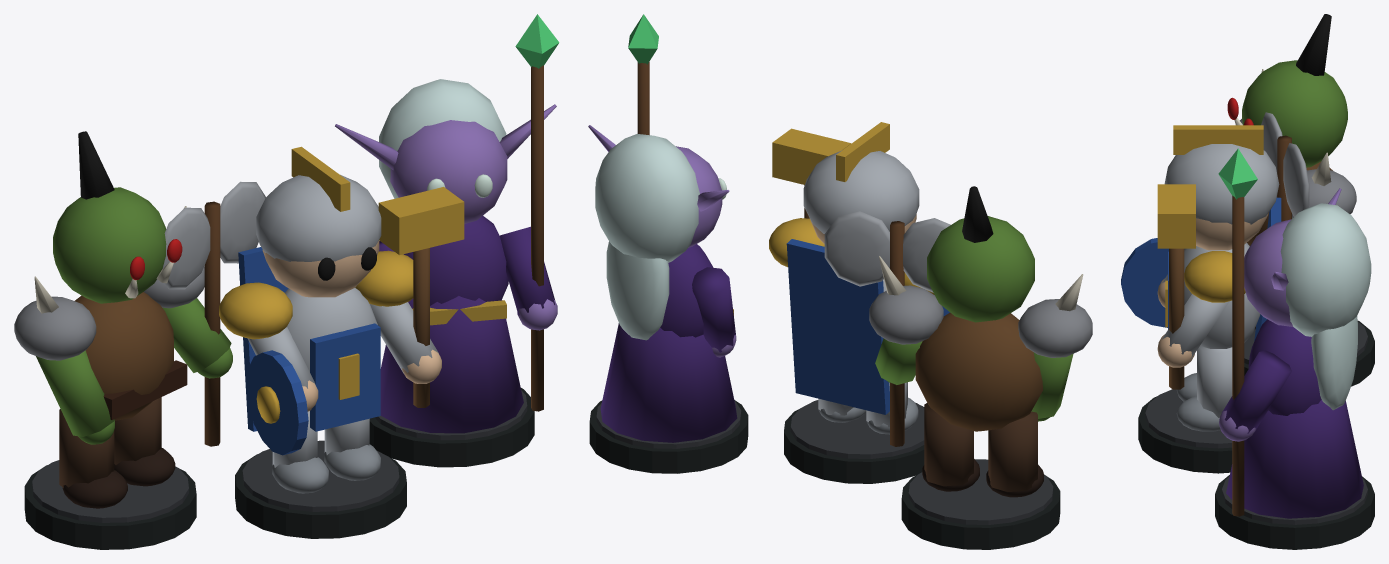
3 renders of one model, left to right at view 1: azimuth 30°, elevation 25°; view 2: azimuth 150°, elevation 25°; view 3: azimuth 270°, elevation 25°, orthographic. The views are drawn at different scales.
Visible parts, largest first — view 1: figs-wow; view 2: figs-wow; view 3: figs-wow.
Part boxes in pixels (left/top/right/bottom): figs-wow: left=14, top=14, right=559, bottom=549; figs-wow: left=588, top=14, right=1092, bottom=549; figs-wow: left=1121, top=14, right=1374, bottom=549.
Bounding box in the file's own units: 0.1655 × 0.125 × 0.073.
